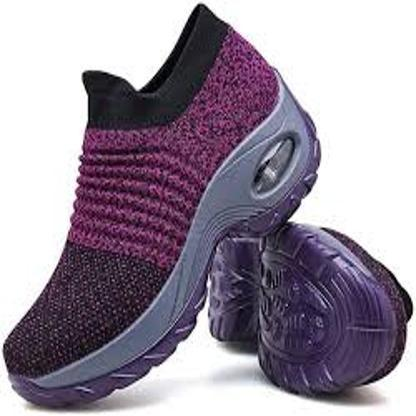not trash: (3, 4, 321, 410), (196, 212, 416, 407)
